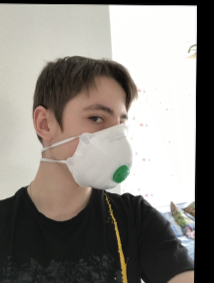with_mask: (70, 89, 133, 190)
